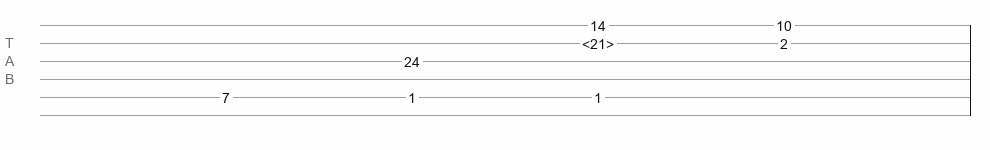1: (408, 90, 416, 100), (594, 90, 602, 100)
10: (776, 18, 792, 28)
14: (590, 18, 606, 28)
2: (780, 36, 788, 46)
24: (404, 54, 420, 64)
7: (222, 90, 230, 100)
harmonic: (582, 36, 614, 46)
